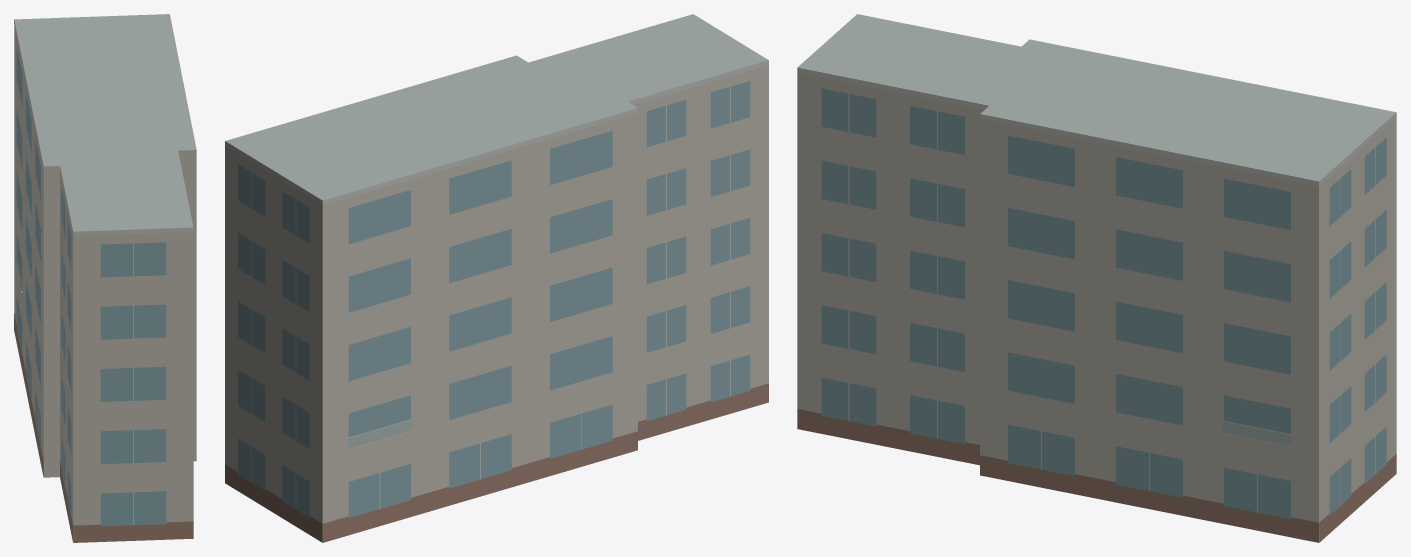
The model's file is survey-upis-32553348.glb.
3 views of the same model, side by side, from view 1: azimuth 30°, elevation 25°; view 2: azimuth 150°, elevation 25°; view 3: azimuth 270°, elevation 25° (orthographic). The views are drawn at different scales.
Parts seen in each view (by area): view 1: survey-upis-32553348.tmp; view 2: survey-upis-32553348.tmp; view 3: survey-upis-32553348.tmp.
Part boxes in pixels (x1,y1,x2,y2): survey-upis-32553348.tmp: (14,14,196,542); survey-upis-32553348.tmp: (225,14,768,542); survey-upis-32553348.tmp: (797,14,1396,542).
Size of the model in its own units: 16.66 by 16.75 by 25.19.
